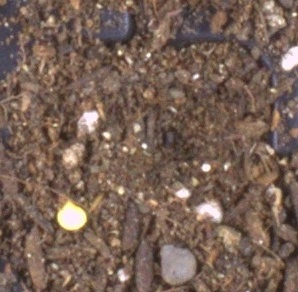chilli seed: (56, 199, 88, 232)
